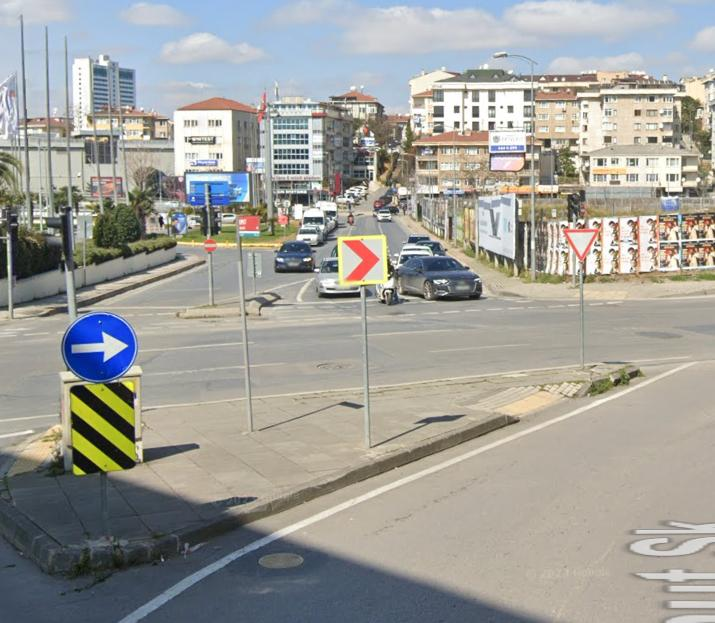turnright: (65, 312, 137, 383)
